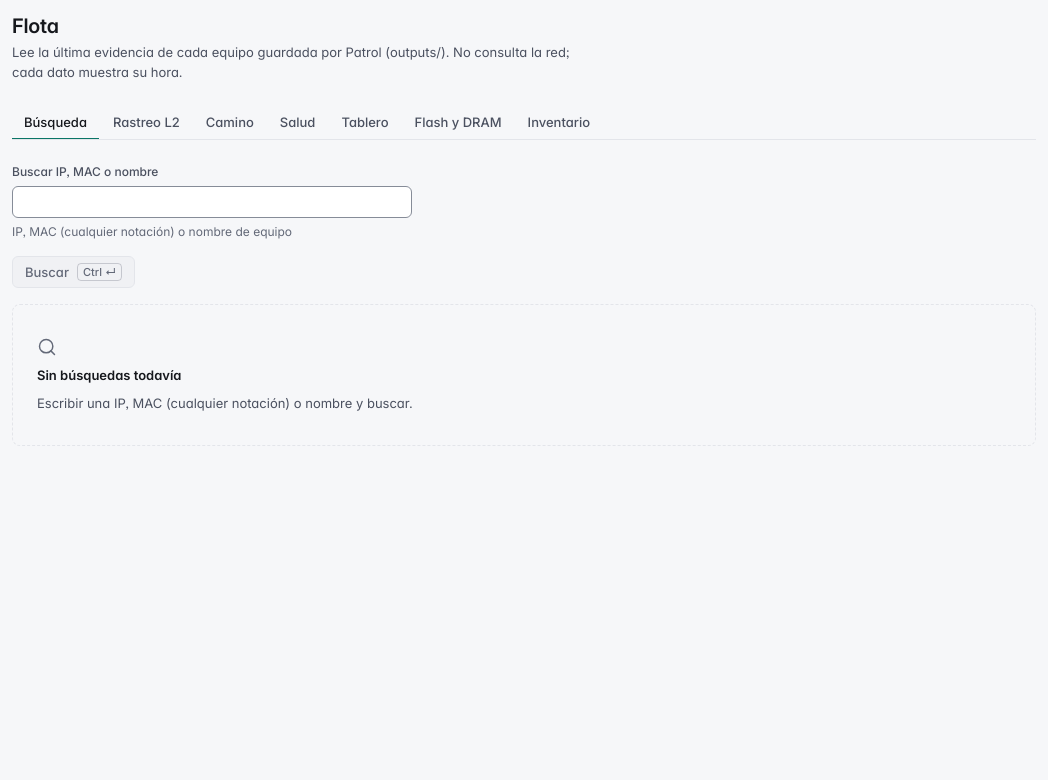
Test case: el camino marca el corte y dibuja el grafo
Click the tab "Camino". click: {"x": 230, "y": 123}
box: [194,106,266,140]
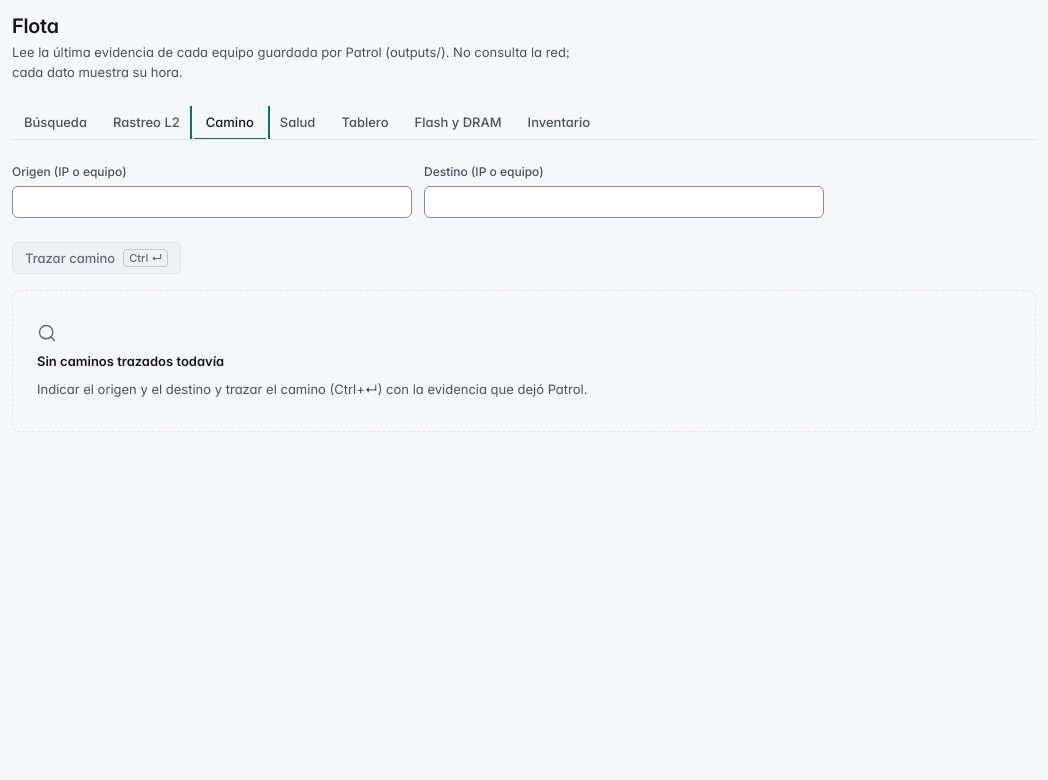
Type "10.1.10.20" into the field labelled "Origen (IP o equipo)". click: {"x": 212, "y": 202}
box: [12,186,412,218]
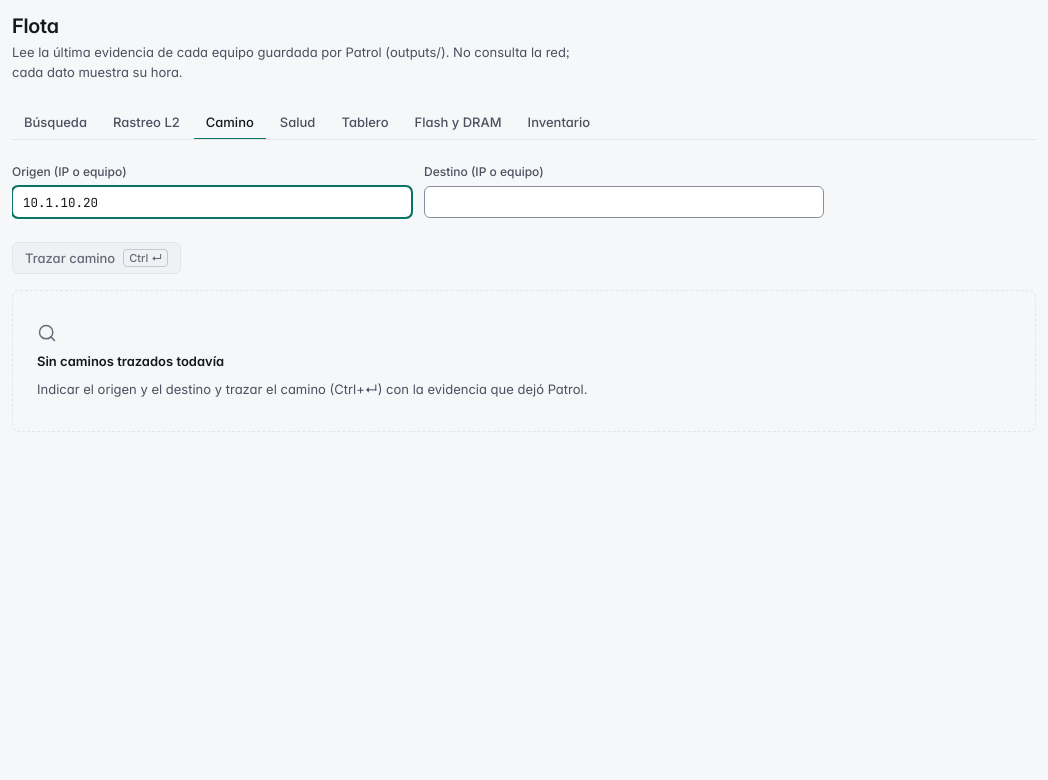
Type "172.31.0.1" into the field labelled "Destino (IP o equipo)". click: {"x": 624, "y": 202}
box: [424,186,824,218]
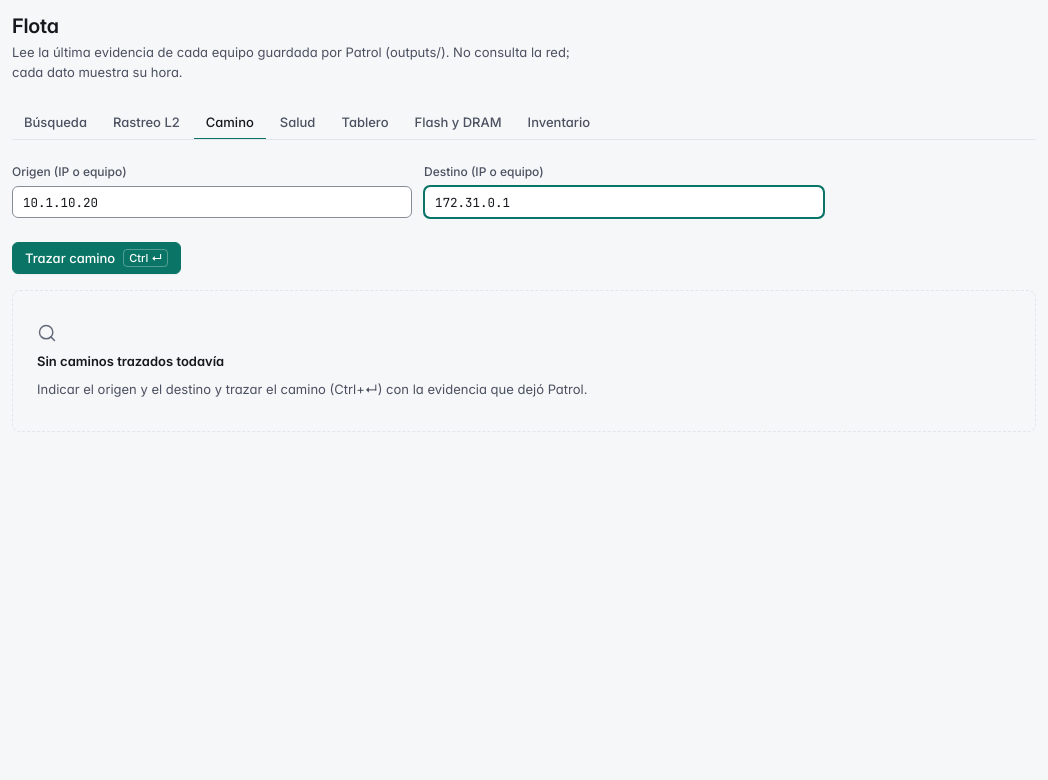
Click the button "Trazar camino Ctrl ↵". click: {"x": 97, "y": 258}
box: [12,242,181,274]
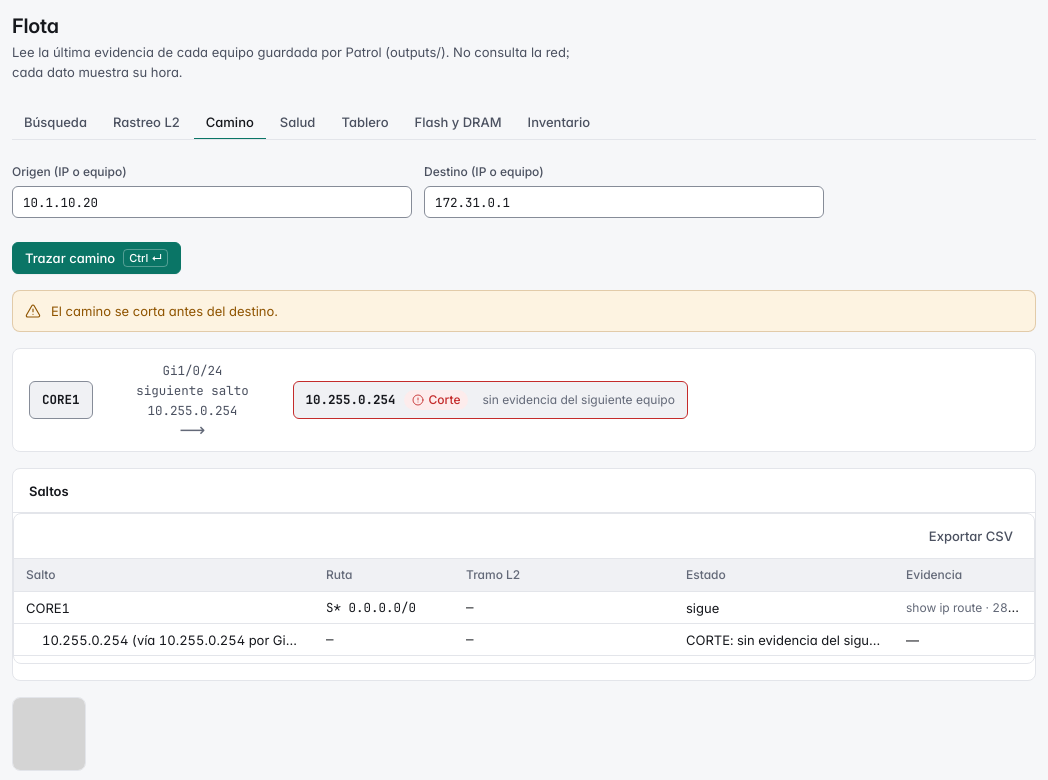
Check: the text "CORTE: sin evidencia del siguiente equipo" is shown, box [674,630,894,650]
Check: the text "El camino se corta antes del destino." is shown, box [12,290,1036,332]
